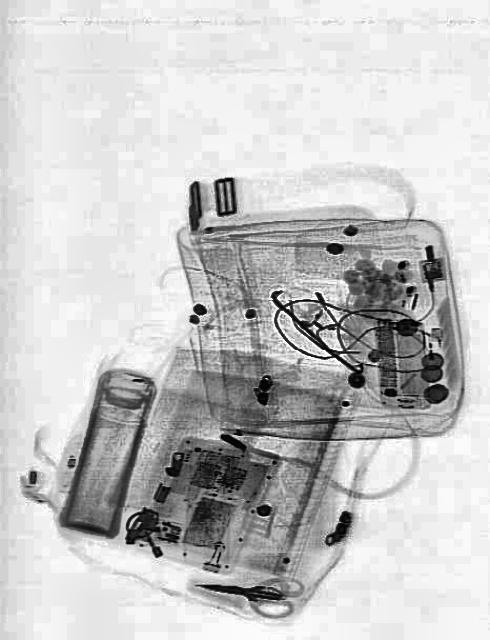Knife: (194, 577, 280, 603)
